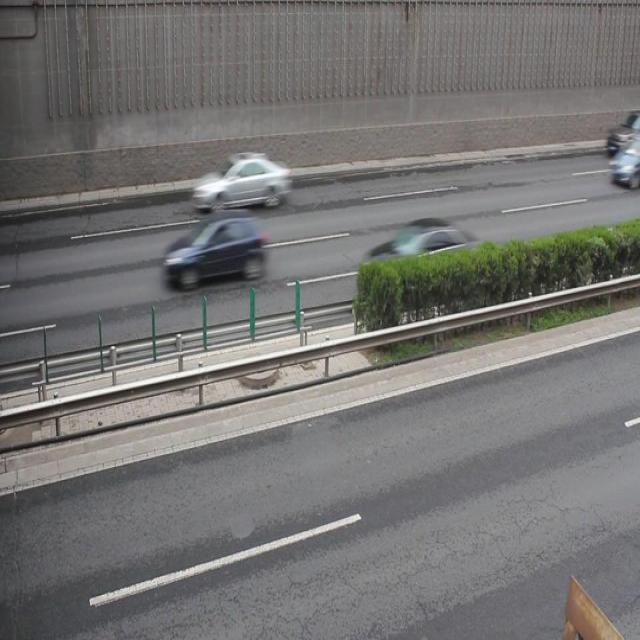car: (363, 215, 478, 298), (161, 210, 266, 288), (191, 150, 292, 211)
